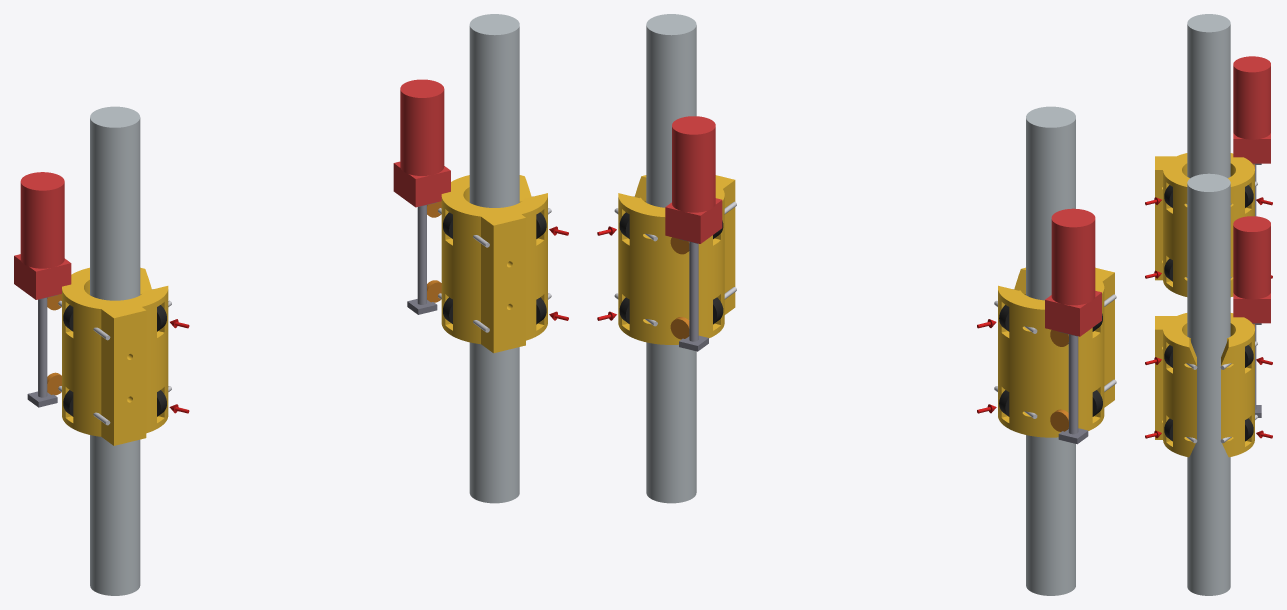
Rendered from cart-sleeves-v2.glb.
The picture shows the model from 3 angles, left to right: view 1: azimuth 30°, elevation 25°; view 2: azimuth 150°, elevation 25°; view 3: azimuth 270°, elevation 25°; orthographic projection. The views are drawn at different scales.
Parts seen in each view (by area): view 1: track_pipe_C, track_pipe_B, hand_C_sleeve, hand_B_sleeve, hand_C_drive_motor, hand_B_drive_motor, hand_C_gearbox, hand_B_gearbox, hand_B_worm, hand_C_worm, hand_C_wheels, hand_B_wheels; view 2: track_pipe_C, track_pipe_B, hand_C_sleeve, hand_B_sleeve, hand_B_drive_motor, hand_C_drive_motor, hand_C_gearbox, hand_B_gearbox, hand_B_worm, hand_C_worm, hand_B_wheels, hand_C_wheels; view 3: track_pipe_C, hand_C_sleeve, track_pipe_B, hand_B_sleeve, hand_B_drive_motor, hand_C_drive_motor, hand_C_gearbox, hand_B_gearbox, hand_C_wheels, hand_B_wheels, hand_C_spring_preload_arrows, hand_B_spring_preload_arrows (+1 smaller).
Boxes of the visible parts, x1,y1,x2,y2 form: track_pipe_C: [469, 14, 519, 503]; track_pipe_B: [90, 106, 140, 595]; hand_C_sleeve: [441, 175, 547, 353]; hand_B_sleeve: [62, 267, 168, 445]; hand_C_drive_motor: [400, 79, 444, 175]; hand_B_drive_motor: [20, 172, 64, 268]; hand_C_gearbox: [393, 161, 450, 207]; hand_B_gearbox: [14, 254, 71, 299]; hand_B_worm: [38, 298, 47, 397]; hand_C_worm: [417, 205, 426, 304]; hand_C_wheels: [443, 212, 546, 324]; hand_B_wheels: [63, 305, 166, 416]; track_pipe_C: [646, 14, 696, 503]; track_pipe_B: [1026, 106, 1075, 595]; hand_C_sleeve: [618, 175, 735, 344]; hand_B_sleeve: [998, 267, 1114, 437]; hand_B_drive_motor: [1051, 208, 1095, 305]; hand_C_drive_motor: [672, 116, 715, 212]; hand_C_gearbox: [665, 198, 722, 243]; hand_B_gearbox: [1045, 291, 1101, 336]; hand_B_worm: [1068, 334, 1078, 434]; hand_C_worm: [689, 242, 698, 341]; hand_B_wheels: [999, 305, 1102, 416]; hand_C_wheels: [619, 212, 723, 324]; track_pipe_C: [1187, 173, 1230, 595]; hand_C_sleeve: [1155, 313, 1254, 457]; track_pipe_B: [1187, 14, 1230, 178]; hand_B_sleeve: [1155, 153, 1254, 296]; hand_B_drive_motor: [1233, 56, 1270, 139]; hand_C_drive_motor: [1233, 216, 1270, 299]; hand_C_gearbox: [1233, 293, 1270, 323]; hand_B_gearbox: [1233, 133, 1270, 163]; hand_C_wheels: [1164, 345, 1253, 441]; hand_B_wheels: [1164, 185, 1253, 281]; hand_C_spring_preload_arrows: [1145, 357, 1272, 438]; hand_B_spring_preload_arrows: [1145, 197, 1272, 278].
Bounding box in the file's own units: 364 × 330 × 94.73.
